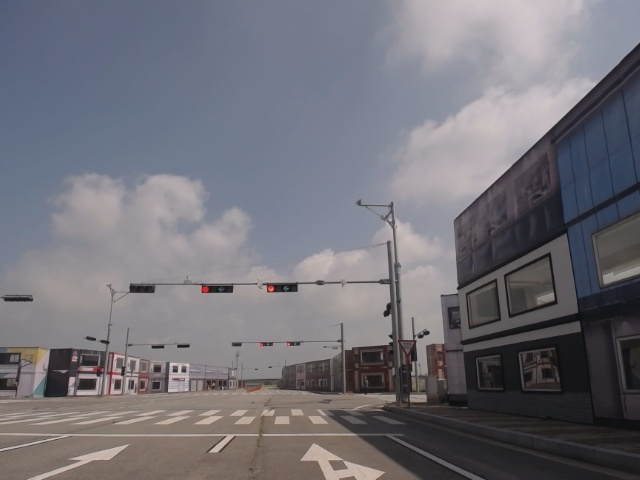left_green_4: (267, 284, 298, 293), (201, 286, 233, 293)
